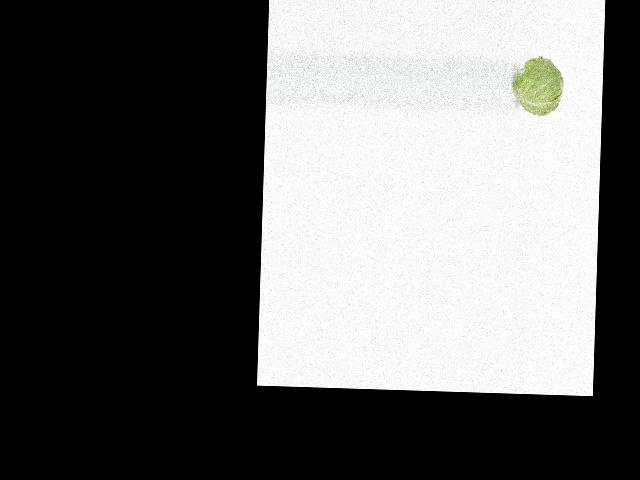lettuce: (518, 54, 565, 120)
